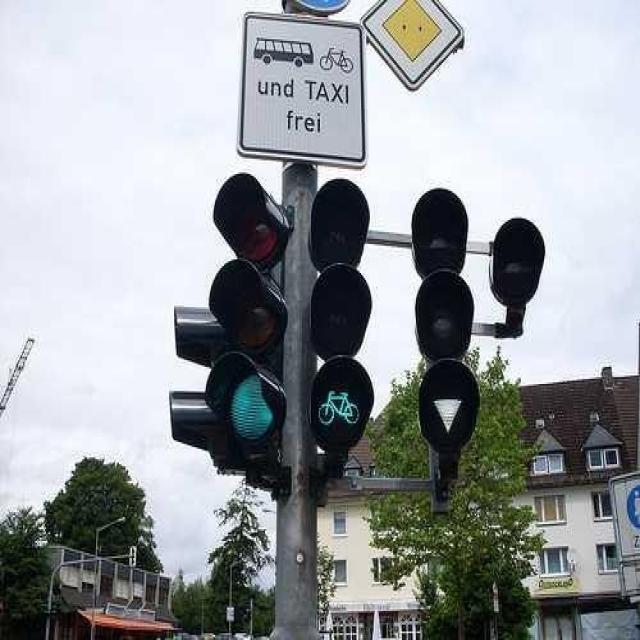Traffic Light -Green-: (205, 152, 294, 466)
